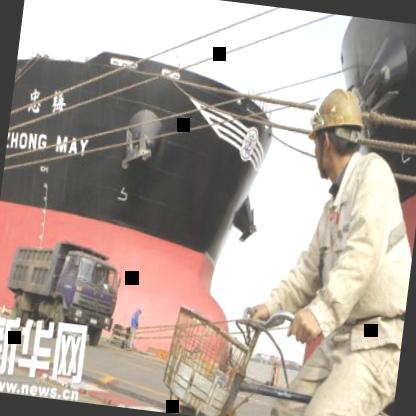helmet: (299, 78, 369, 180)
